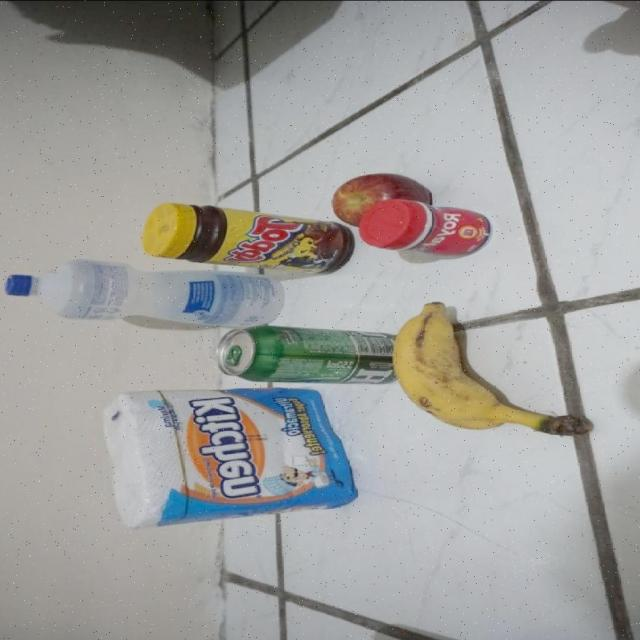AlcoholBottle: (5, 260, 285, 328)
Apple: (332, 172, 434, 230)
Banana: (395, 302, 594, 438)
BeerCan: (217, 324, 398, 384)
ChocolatePowder: (143, 203, 354, 273)
Napkin: (102, 389, 361, 527)
Yeast: (361, 199, 494, 257)
